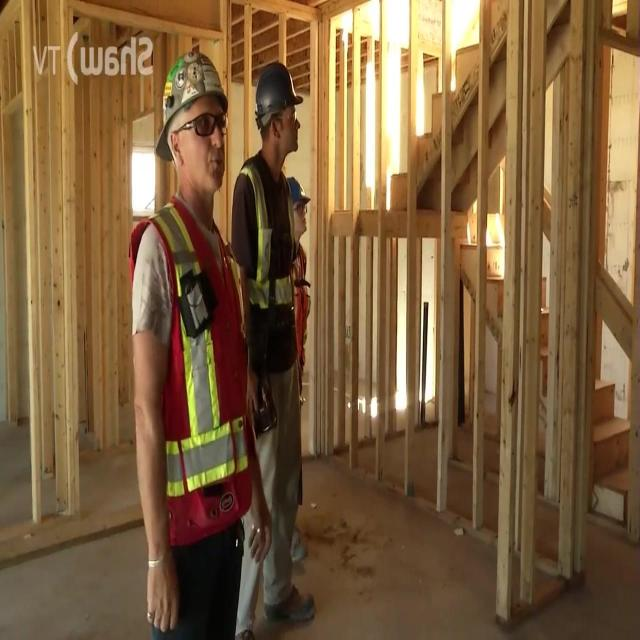Reflective-Jacket: (113, 195, 260, 561), (225, 150, 318, 383)
Safety-Helmet: (144, 39, 234, 159), (248, 53, 308, 139), (280, 166, 315, 219)
